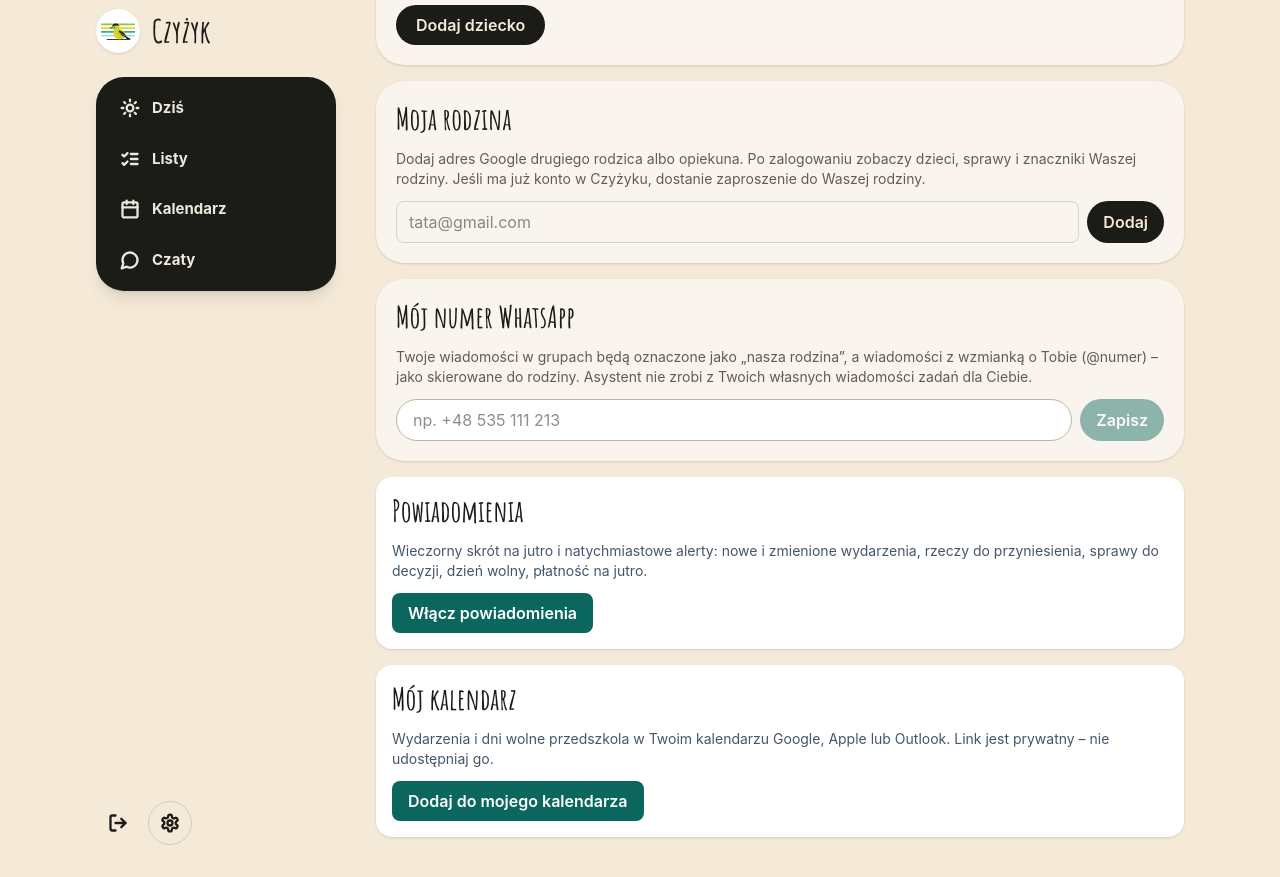
it: Mój kalendarz › wygenerowanie linku pokazuje Google, Apple, Outlook i Kopiuj
(page scrolled)
Click the button "Dodaj do mojego kalendarza" at (518, 801), box [392,781,644,821]
(page scrolled)
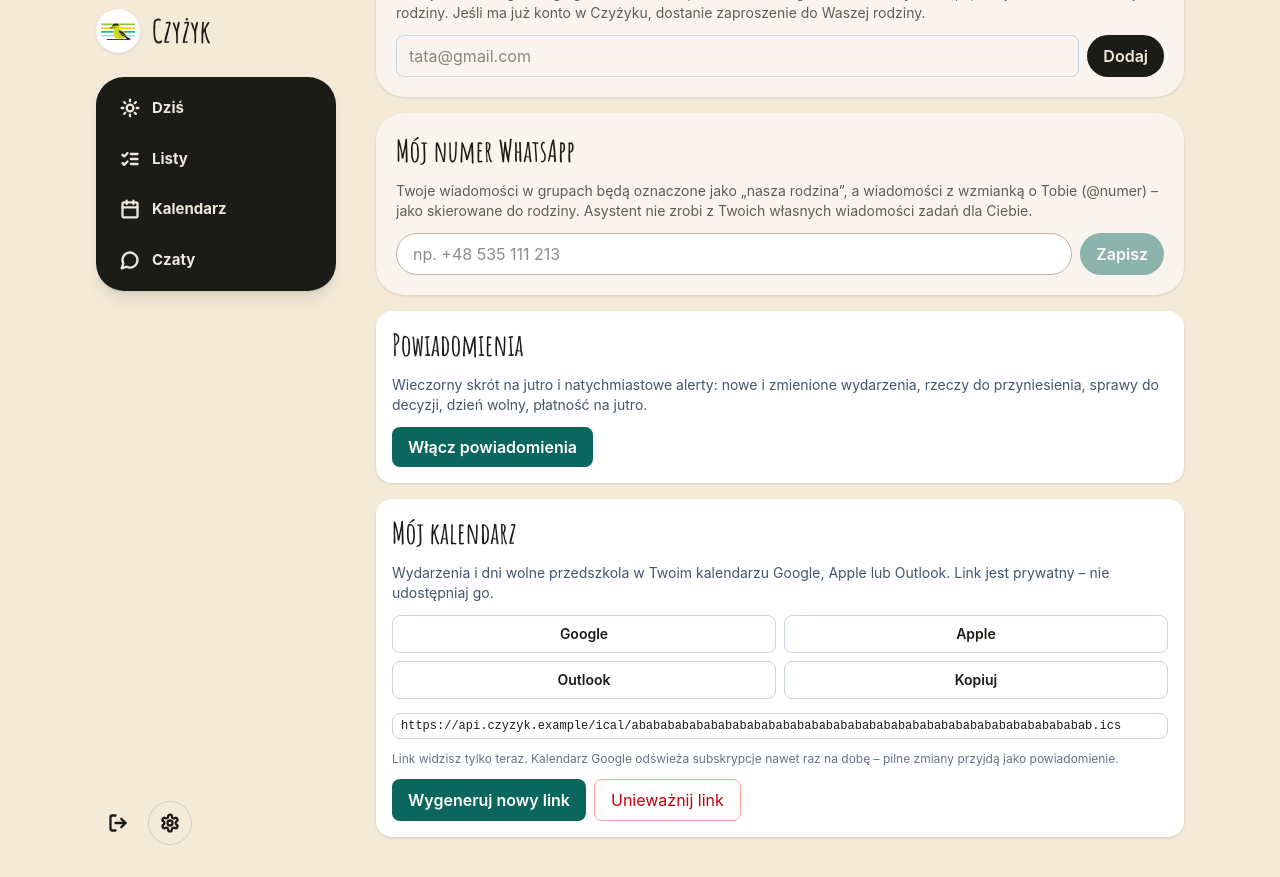
expect the button "Kopiuj" is shown: met, box [784,661,1168,699]
expect the button "Wygeneruj nowy link" is shown: met, box [392,779,586,821]
